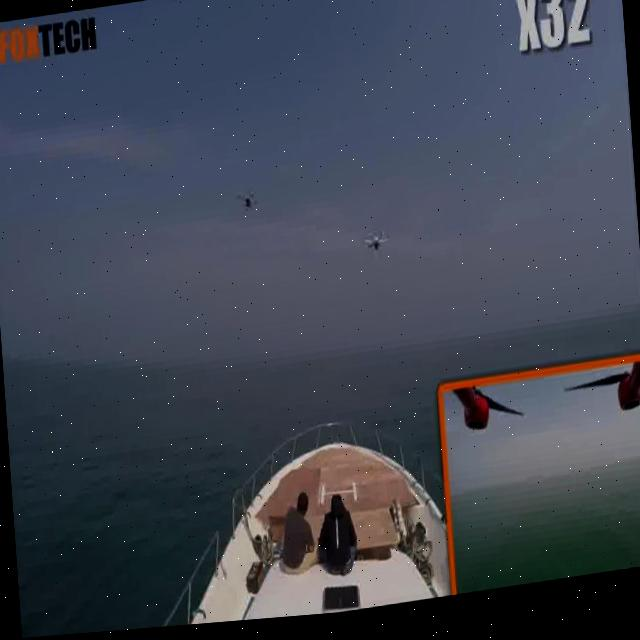drone: (361, 216, 391, 278), (234, 185, 260, 223)
